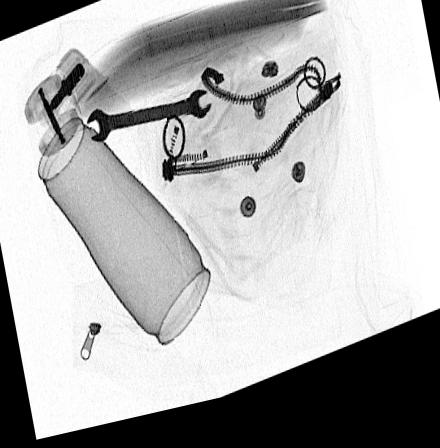Wrench: (83, 95, 213, 147)
